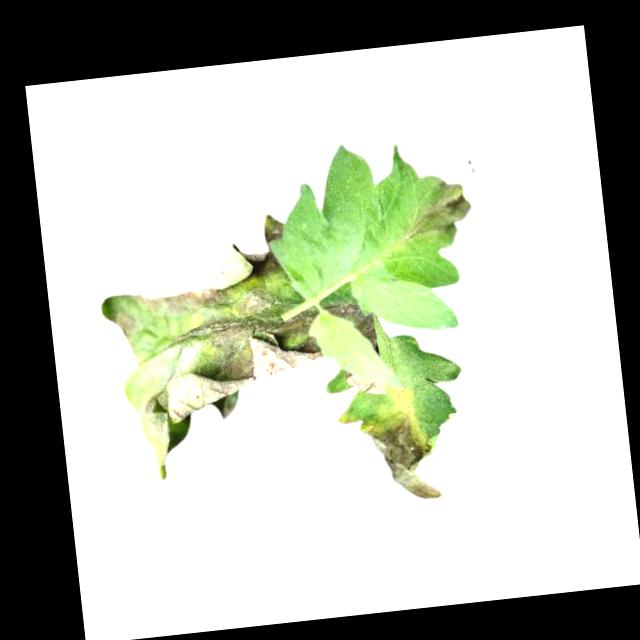Late_blight: (98, 210, 333, 440), (364, 406, 445, 507), (396, 172, 476, 242), (324, 297, 381, 361), (344, 366, 385, 399)
